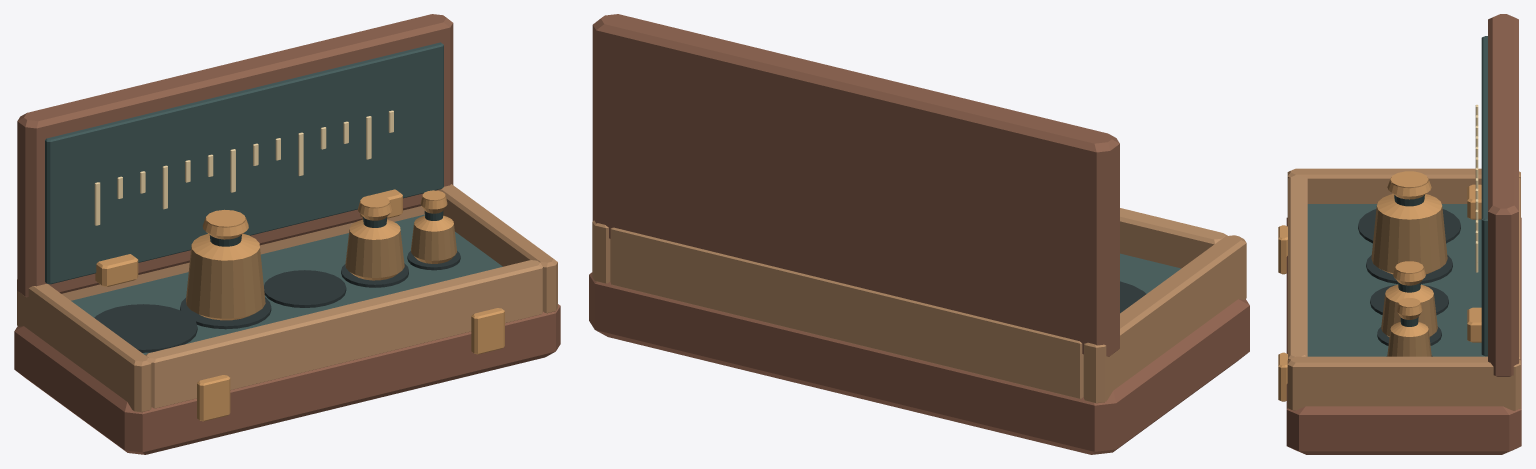
The model's file is CalibrationCase.glb.
The picture shows the model from 3 angles, left to right: view 1: azimuth 30°, elevation 25°; view 2: azimuth 150°, elevation 25°; view 3: azimuth 270°, elevation 25°; orthographic projection. The views are drawn at different scales.
Parts seen in each view (by area): view 1: CalibrationCase; view 2: CalibrationCase; view 3: CalibrationCase.
Part boxes in pixels (x1,y1,x2,y2): CalibrationCase: [14, 14, 560, 454]; CalibrationCase: [589, 14, 1249, 454]; CalibrationCase: [1278, 14, 1521, 454].
Size of the model in its own units: 0.54 by 0.3055 by 0.2745.
